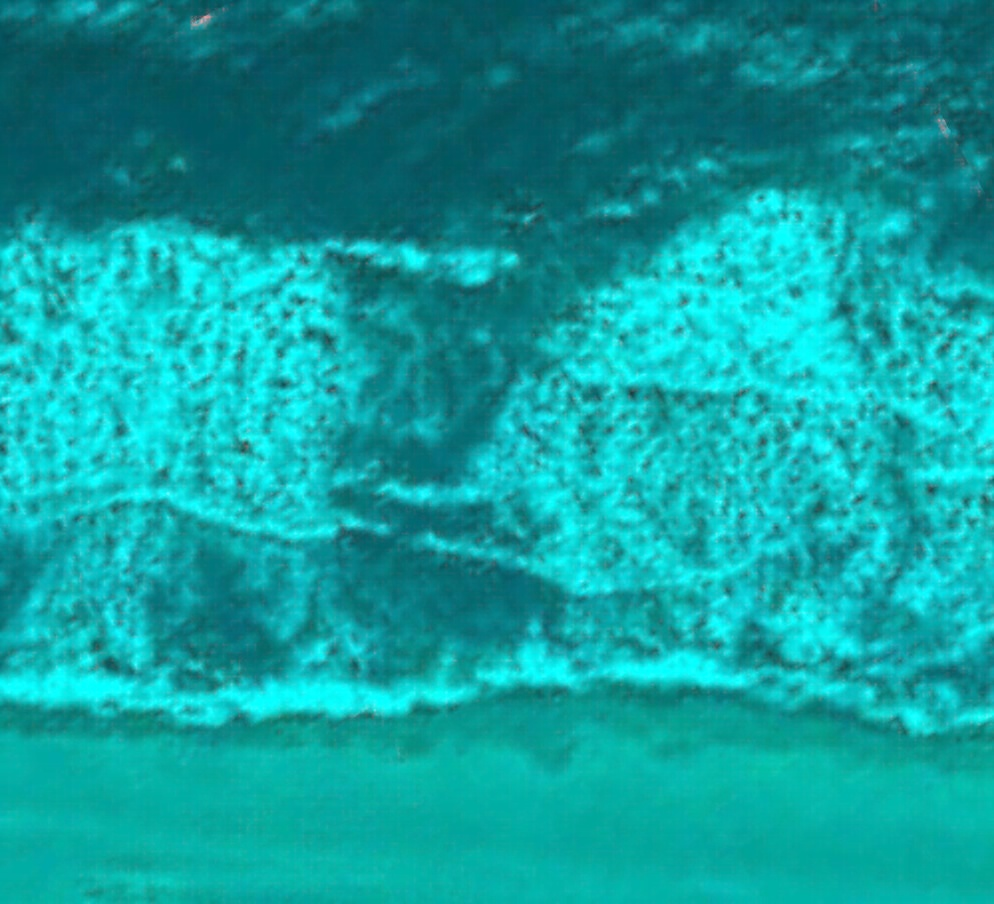rip_current: (254, 190, 601, 631)
